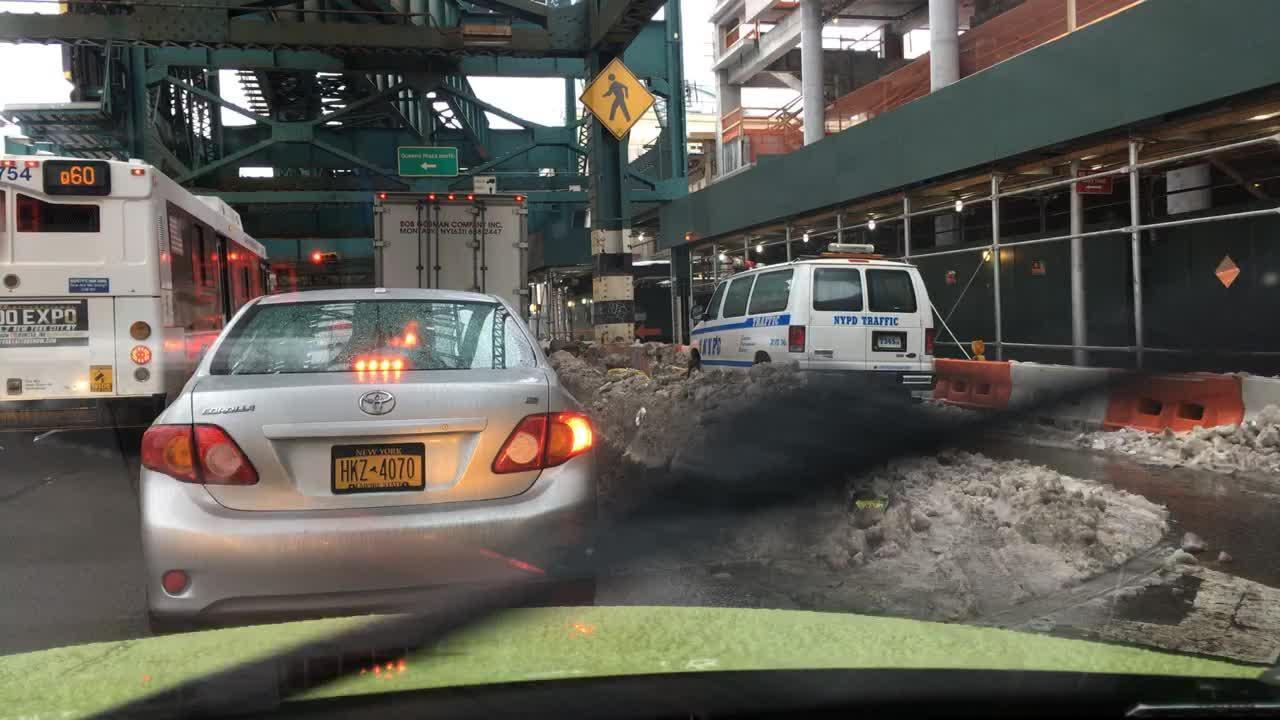Toyota: (357, 390, 400, 420)
